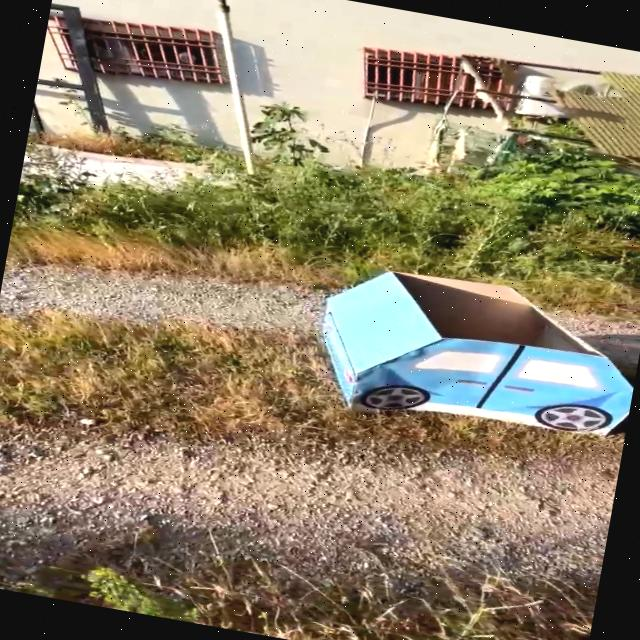blue_car: (235, 199, 640, 496)
